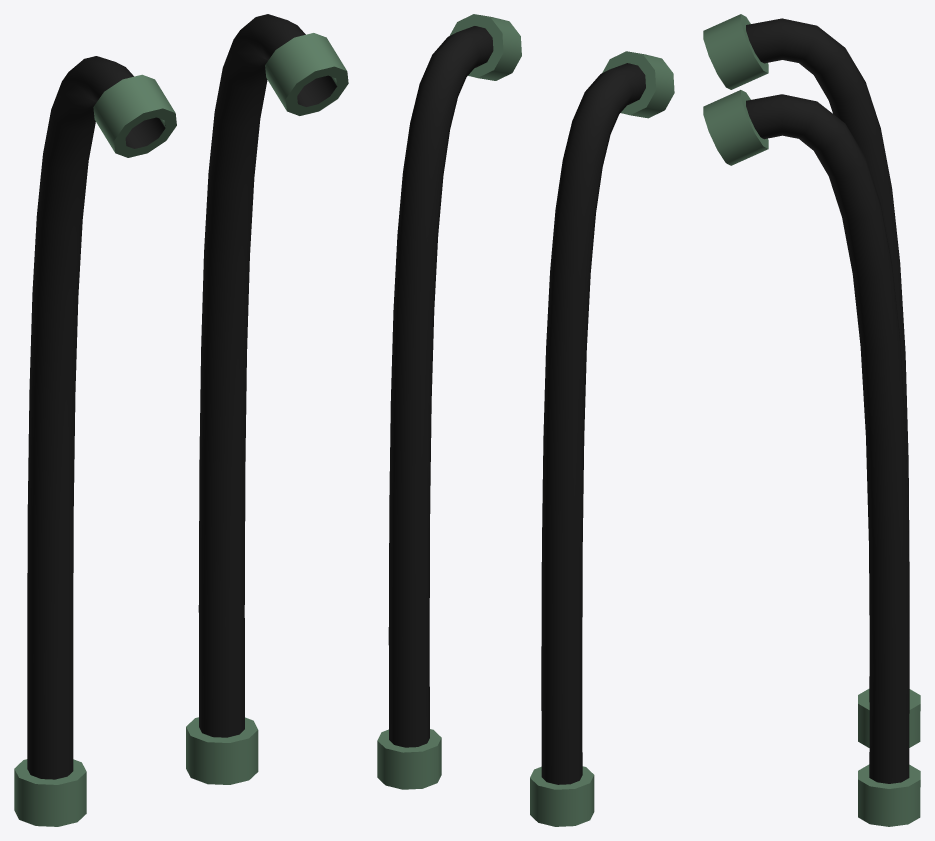
The model's file is t10_hoses.obj.
The picture shows the model from 3 angles, left to right: view 1: azimuth 30°, elevation 25°; view 2: azimuth 150°, elevation 25°; view 3: azimuth 270°, elevation 25°; orthographic projection. The views are drawn at different scales.
Visible parts, largest first — view 1: t10_hoses; view 2: t10_hoses; view 3: t10_hoses.
Boxes of the visible parts, x1,y1,x2,y2 form: t10_hoses: (14, 14, 348, 826); t10_hoses: (377, 14, 674, 826); t10_hoses: (703, 14, 920, 826).
Bounding box in the file's own units: 0.41 × 1.33 × 0.3633.
